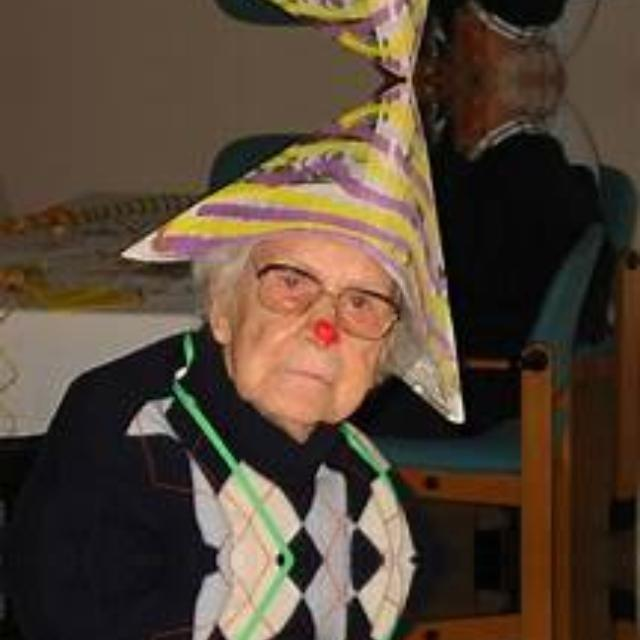person: (137, 104, 457, 560), (137, 559, 457, 640), (137, 0, 457, 56)
